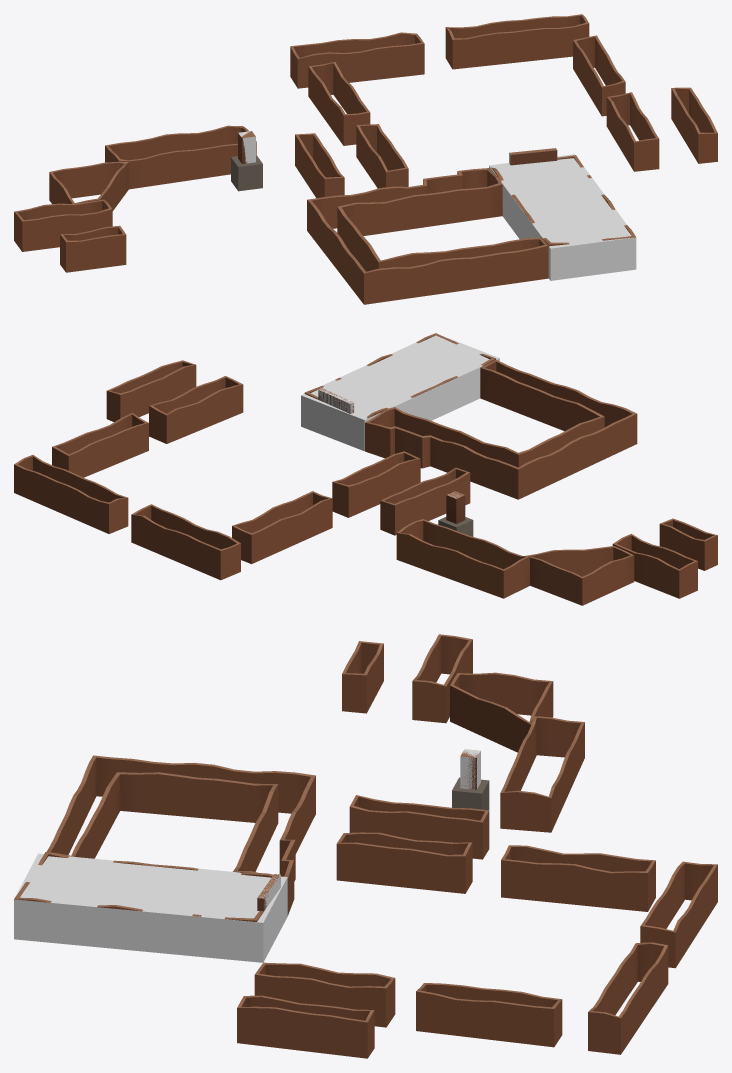
File: trinidad.glb
The picture shows the model from 3 angles, top to bottom: view 1: azimuth 30°, elevation 25°; view 2: azimuth 150°, elevation 25°; view 3: azimuth 270°, elevation 25°; orthographic projection. The views are drawn at different scales.
Parts seen in each view (by area): view 1: sitio, bulto-iglesia-mayor; view 2: sitio, bulto-iglesia-mayor, bulto-fachada; view 3: sitio, bulto-iglesia-mayor, bulto-campanario.
Part boxes in pixels (x1=…): sitio: x1=14, y1=14, x2=717, y2=304; bulto-iglesia-mayor: x1=489, y1=154, x2=636, y2=280; sitio: x1=14, y1=333, x2=717, y2=605; bulto-iglesia-mayor: x1=301, y1=335, x2=499, y2=451; bulto-fachada: x1=318, y1=388, x2=354, y2=413; sitio: x1=14, y1=634, x2=717, y2=1058; bulto-iglesia-mayor: x1=14, y1=853, x2=287, y2=962; bulto-campanario: x1=460, y1=749, x2=480, y2=789.
Size of the model in its own units: 321 by 24 by 247.
